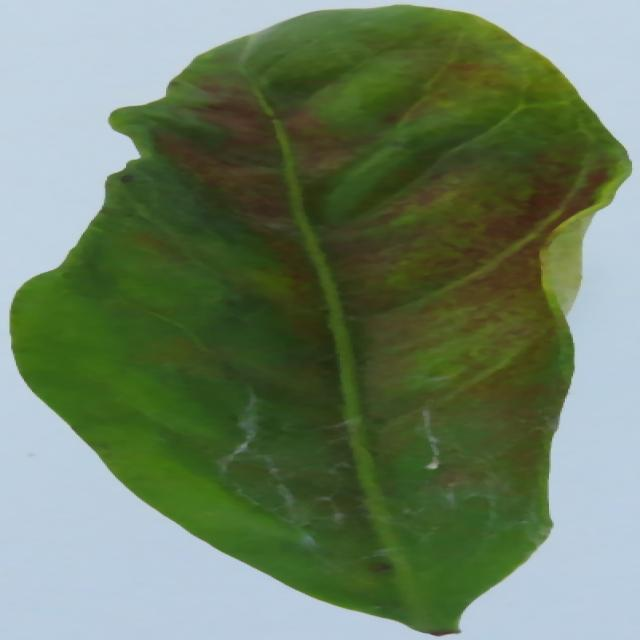DeficienciaNutricional-Boro: (11, 5, 628, 634)
